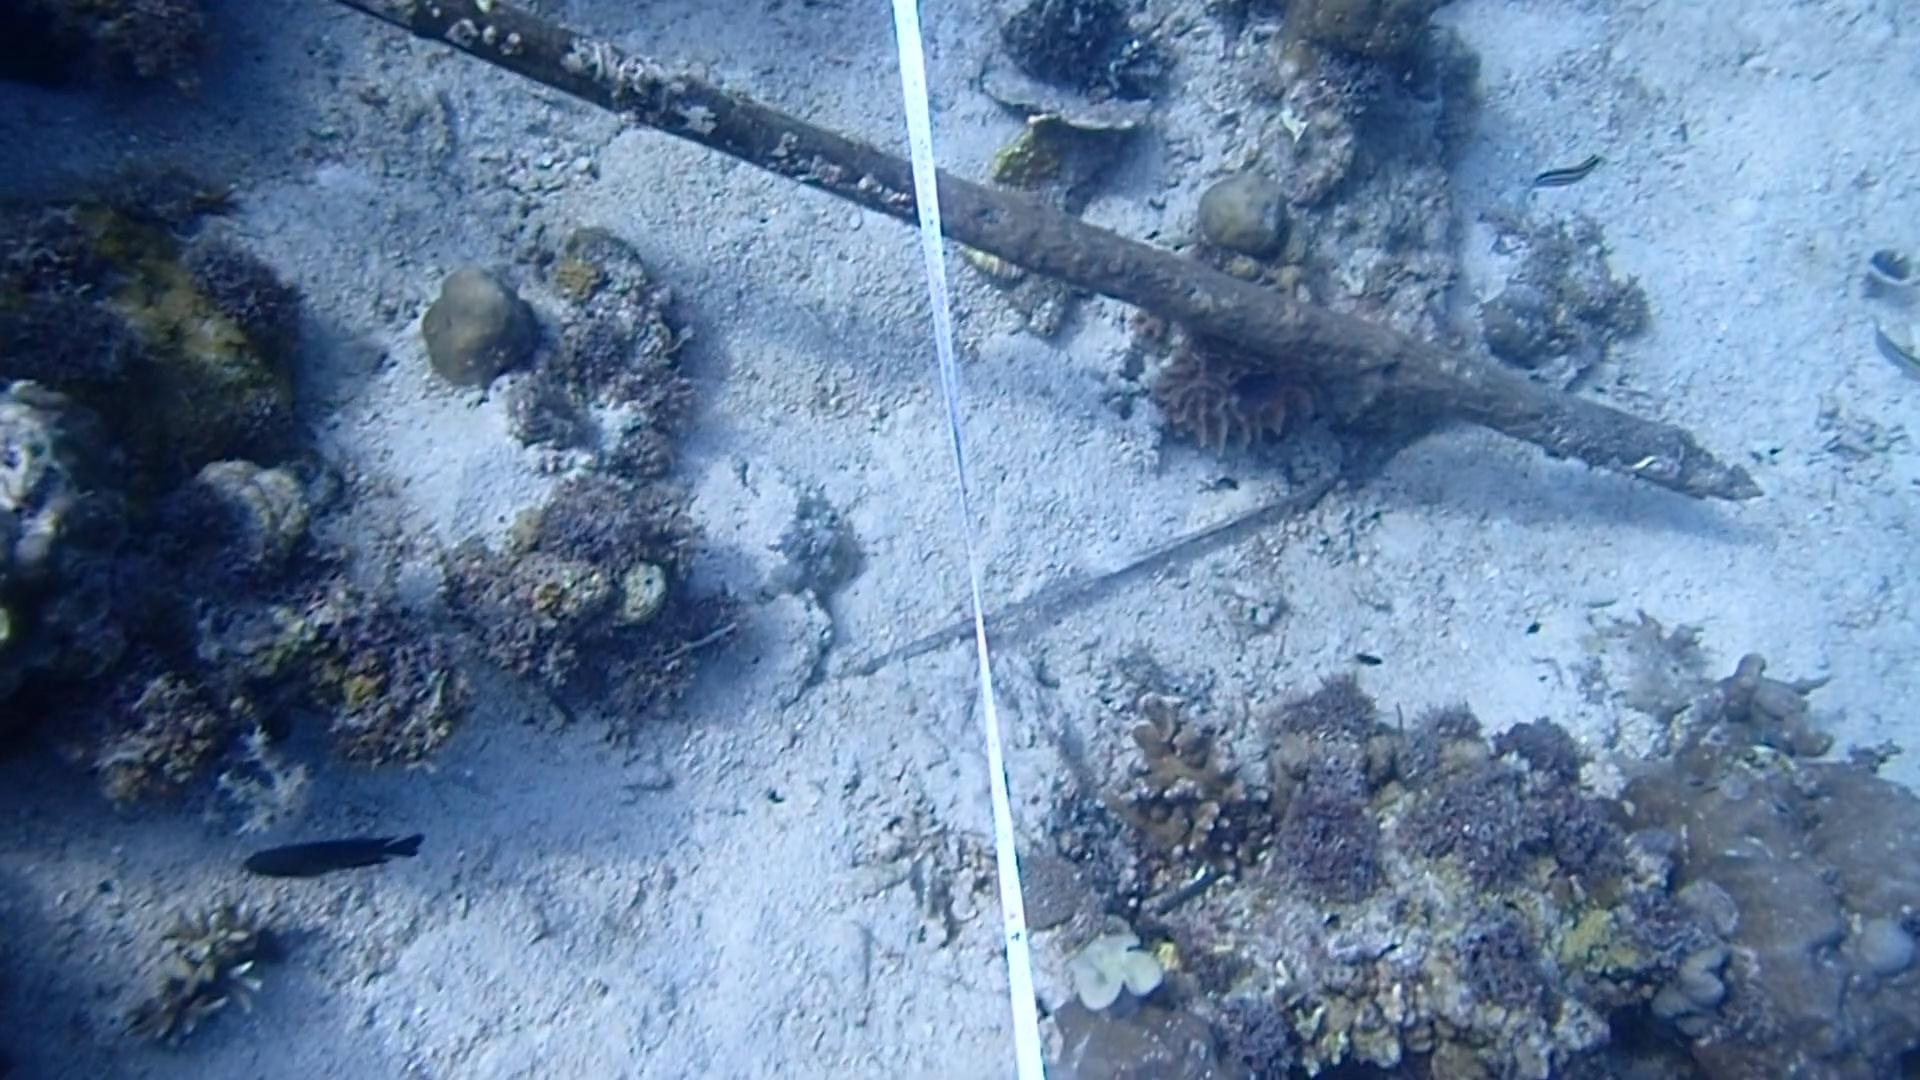Dark Fish: (237, 820, 430, 890)
Striped Fish: (1523, 137, 1610, 206), (1859, 314, 1920, 389)
